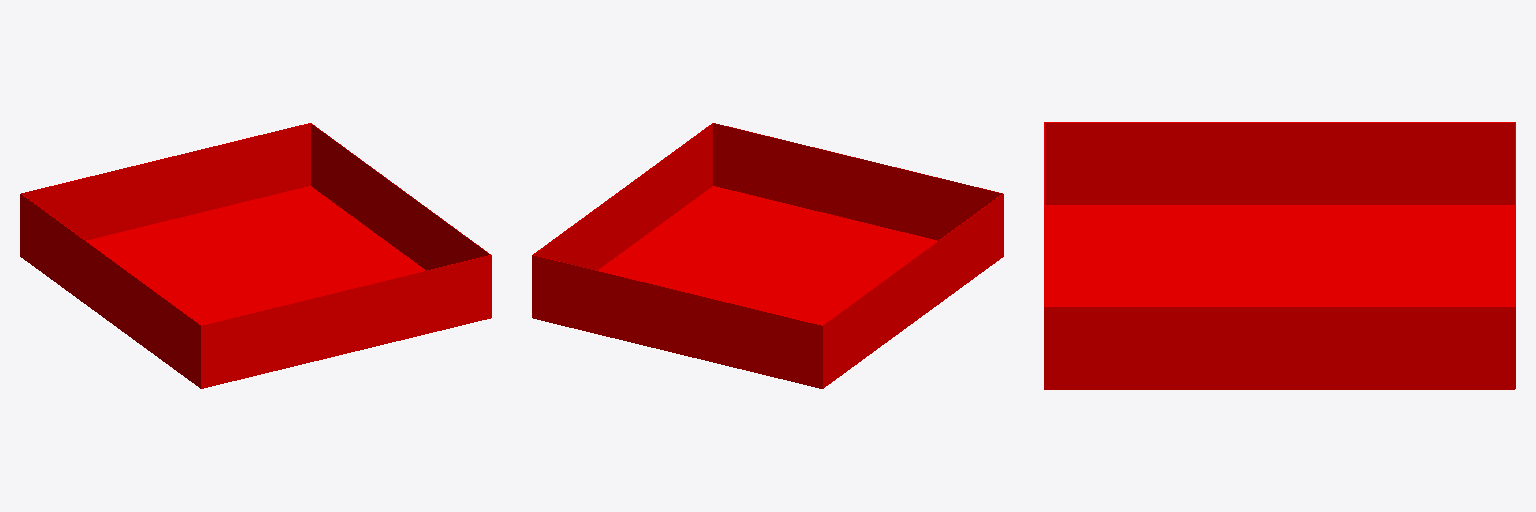
robot.urdf — square.urdf:
<?xml version="1.0" ?>
<robot name="square.urdf">
  <link name="baseLink">
    <contact>
      <lateral_friction value="1.0"/>
      <inertia_scaling value="3.0"/>
    </contact>
    <inertial>
      <origin rpy="0 0 0" xyz="0 0 0"/>
       <mass value=".1"/>
       <inertia ixx="1" ixy="0" ixz="0" iyy="1" iyz="0" izz="1"/>
    </inertial>
    <visual>
      <origin rpy="0 0 0" xyz="0 0 0"/>
      <geometry>
        <mesh filename="15.stl" scale="1 1 1" />
      </geometry>
      <material name="red">
        <color rgba="1 0 0 1"/>
      </material>
    </visual>
    <collision>
      <origin rpy="0 0 0" xyz="0 0 0"/>
      <geometry>
        <mesh filename="15_convex.obj" scale="1 1 1" />
      </geometry>
    </collision>
  </link>
</robot>

--- Render facts (derived) ---
The picture shows the robot from 3 angles, left to right: view 1: azimuth 30°, elevation 25°; view 2: azimuth 150°, elevation 25°; view 3: azimuth 270°, elevation 25°; orthographic projection.
Robot: square.urdf — 1 links, 0 joints (none); root link baseLink; default pose: every joint at zero.
Visible links, largest first — view 1: baseLink; view 2: baseLink; view 3: baseLink.
Link boxes in pixels (bbox=[...]): baseLink: bbox=[20, 123, 491, 388]; baseLink: bbox=[532, 123, 1003, 388]; baseLink: bbox=[1044, 122, 1515, 389].
Bounding box of the posed robot: 0.5417 × 0.584 × 0.1128 m (x, y, z).
1 mesh visuals loaded from 1 distinct referenced files (1 binary STL).